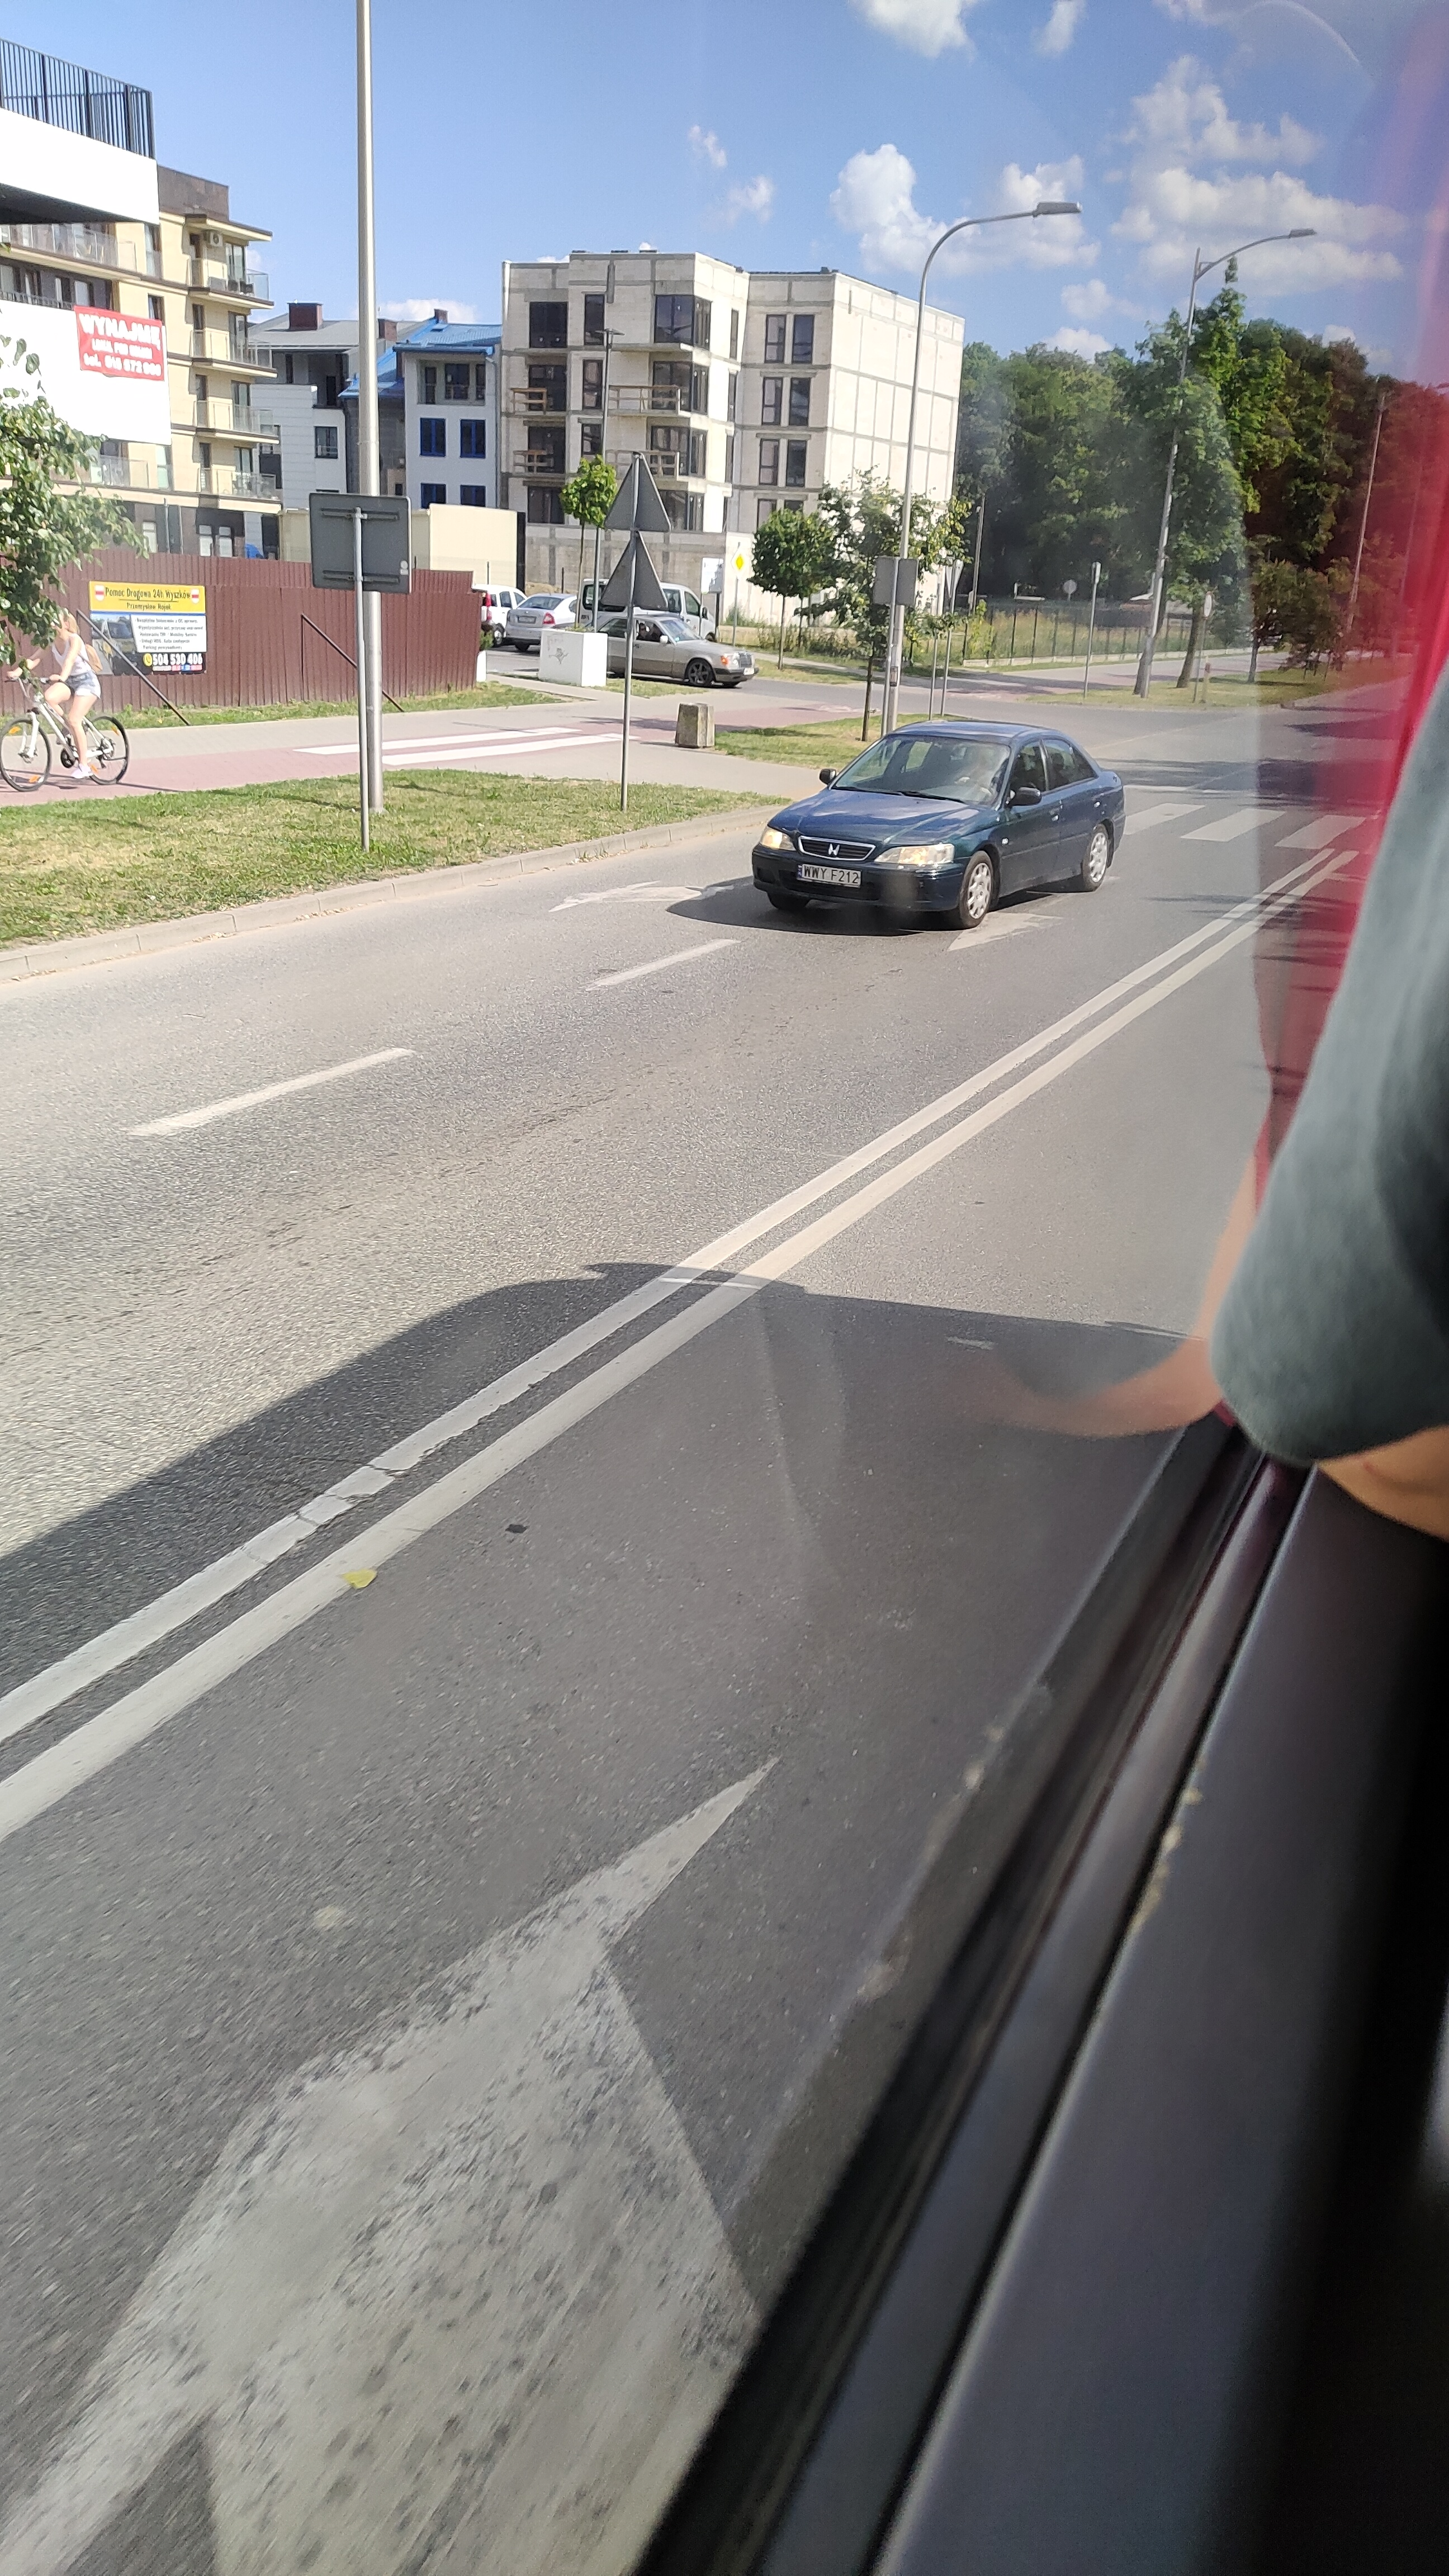number_plate: (797, 863, 862, 890)
